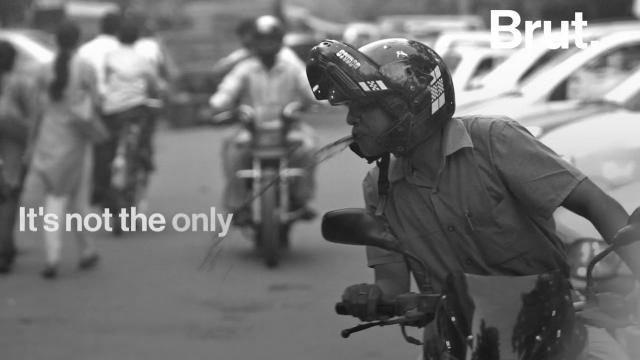spit: (195, 72, 454, 284)
